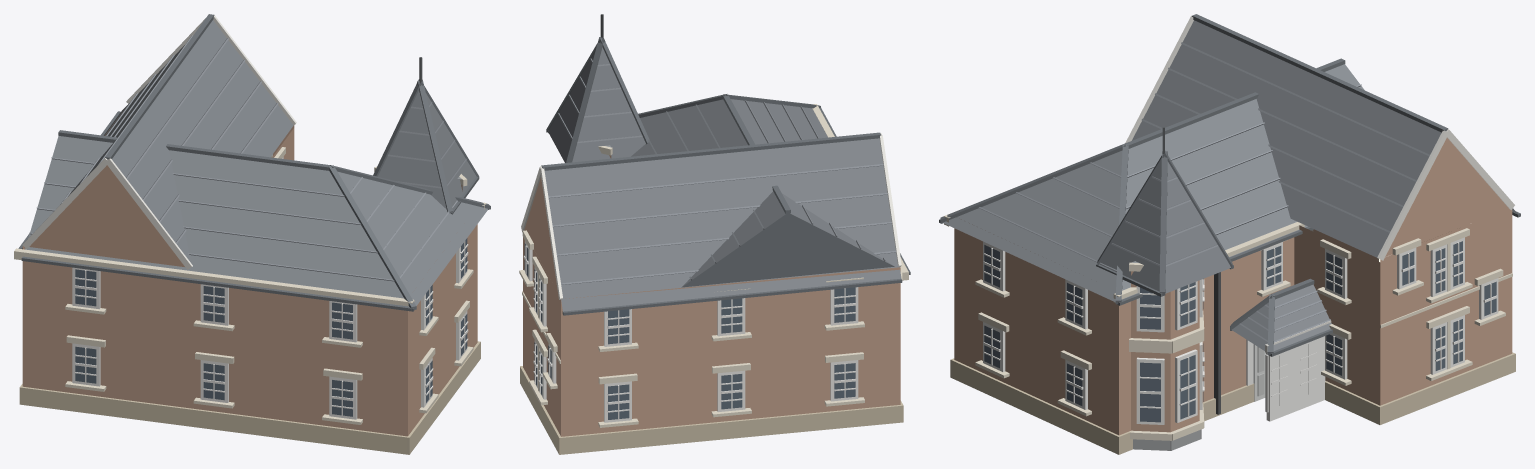
3 views of the same model, side by side, from view 1: azimuth 30°, elevation 25°; view 2: azimuth 150°, elevation 25°; view 3: azimuth 270°, elevation 25° (orthographic). The views are drawn at different scales.
Visible parts, largest first — view 1: slate, ss_red, ss_dk, slate_dk, ss_lt, frame, slate_lt, string, window_glass_018, window_glass_019, window_glass_017, window_glass_016 (+2 smaller); view 2: slate, ss_red, slate_dk, ss_dk, frame, ss_lt, slate_lt, string, window_glass_026, window_glass_024, window_glass_027, window_glass_025 (+2 smaller); view 3: slate, ss_red, frame, slate_dk, ss_lt, ss_dk, slate_lt, string, window_glass_001, pipe, window_glass_002, plinth (+1 smaller).
Boxes of the visible parts, x1,y1,x2,y2 form: slate: (21,20,488,306); ss_red: (22,112,477,436); ss_dk: (19,341,480,454); slate_dk: (18,14,490,311); ss_lt: (14,147,486,424); frame: (72,154,468,419); slate_lt: (29,35,466,281); string: (22,14,296,269); window_glass_018: (203,363,224,400); window_glass_019: (203,286,224,322); window_glass_017: (75,269,96,306); window_glass_016: (75,346,96,383); slate: (544,47,901,311); ss_red: (523,155,900,436); slate_dk: (541,37,910,315); ss_dk: (520,366,903,454); frame: (523,241,858,422); ss_lt: (519,104,908,427); slate_lt: (548,58,896,284); string: (521,133,901,299); window_glass_026: (834,363,855,398); window_glass_024: (721,374,742,409); window_glass_027: (834,287,855,322); window_glass_025: (721,298,742,333); slate: (943,20,1517,352); ss_red: (954,138,1512,435); frame: (983,230,1498,424); slate_dk: (939,14,1520,356); ss_lt: (944,214,1512,440); ss_dk: (950,352,1515,454); slate_lt: (979,42,1429,342); string: (1125,15,1514,353); window_glass_001: (1140,362,1160,422); pipe: (1162,127,1220,414); window_glass_002: (1180,355,1195,419); plinth: (1133,429,1201,450).
Size of the model in its own units: 15.24 by 10.3 by 17.64.
